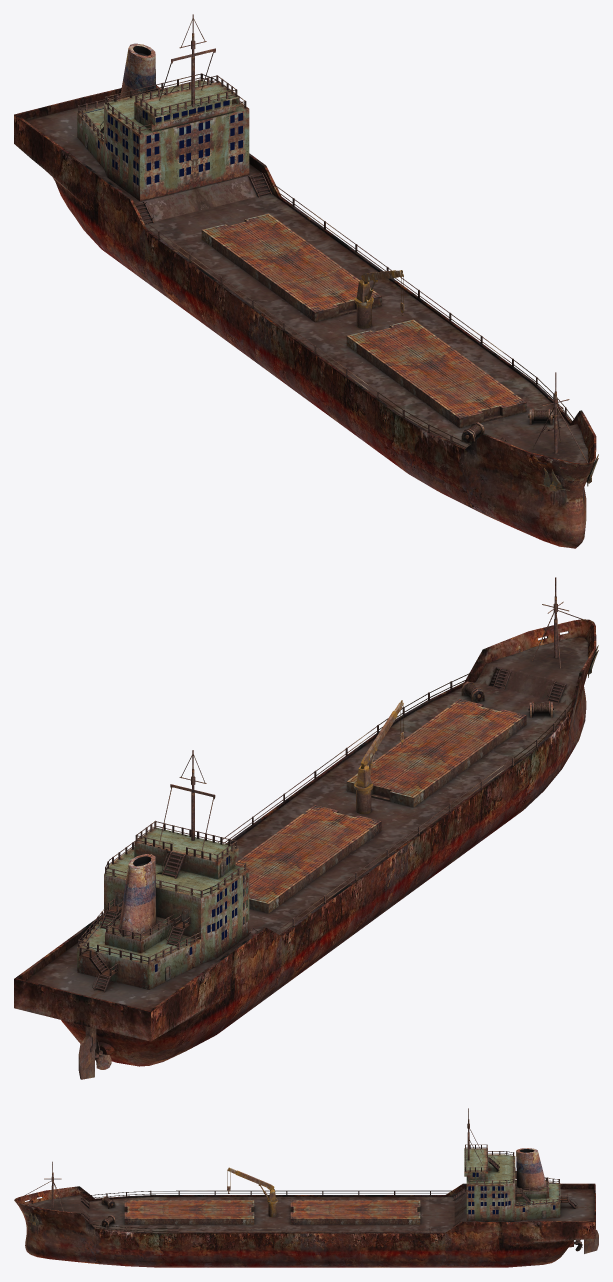
File: realship.glb
3 views of the same model, one above another, from view 1: azimuth 30°, elevation 25°; view 2: azimuth 150°, elevation 25°; view 3: azimuth 270°, elevation 25° (orthographic). The views are drawn at different scales.
Visible parts, largest first — view 1: Bottom_mesh_07 - Default_0, Details_mesh_09 - Default_0, Area_mesh_wire_115115115_0, object 2, Plugs_mesh_02 - Default_0; view 2: Bottom_mesh_07 - Default_0, Details_mesh_09 - Default_0, Area_mesh_wire_115115115_0, object 2, Plugs_mesh_02 - Default_0; view 3: Bottom_mesh_07 - Default_0, Details_mesh_09 - Default_0, Area_mesh_wire_115115115_0, object 2, Plugs_mesh_02 - Default_0.
Part boxes in pixels (x1,y1,x2,y2): Bottom_mesh_07 - Default_0: [14, 85, 596, 548]; Details_mesh_09 - Default_0: [78, 14, 598, 491]; Area_mesh_wire_115115115_0: [26, 99, 588, 463]; object 2: [77, 80, 249, 201]; Plugs_mesh_02 - Default_0: [83, 100, 242, 185]; Bottom_mesh_07 - Default_0: [14, 619, 596, 1066]; Details_mesh_09 - Default_0: [78, 577, 598, 1079]; Area_mesh_wire_115115115_0: [26, 637, 588, 1010]; object 2: [77, 827, 249, 989]; Plugs_mesh_02 - Default_0: [83, 855, 243, 972]; Bottom_mesh_07 - Default_0: [14, 1183, 595, 1267]; Details_mesh_09 - Default_0: [16, 1108, 598, 1253]; Area_mesh_wire_115115115_0: [28, 1189, 594, 1232]; object 2: [464, 1148, 560, 1221]; Plugs_mesh_02 - Default_0: [468, 1172, 555, 1214].
Size of the model in its own units: 3.1 by 5.59 by 20.
Materials: 6 (4 with a texture image).
